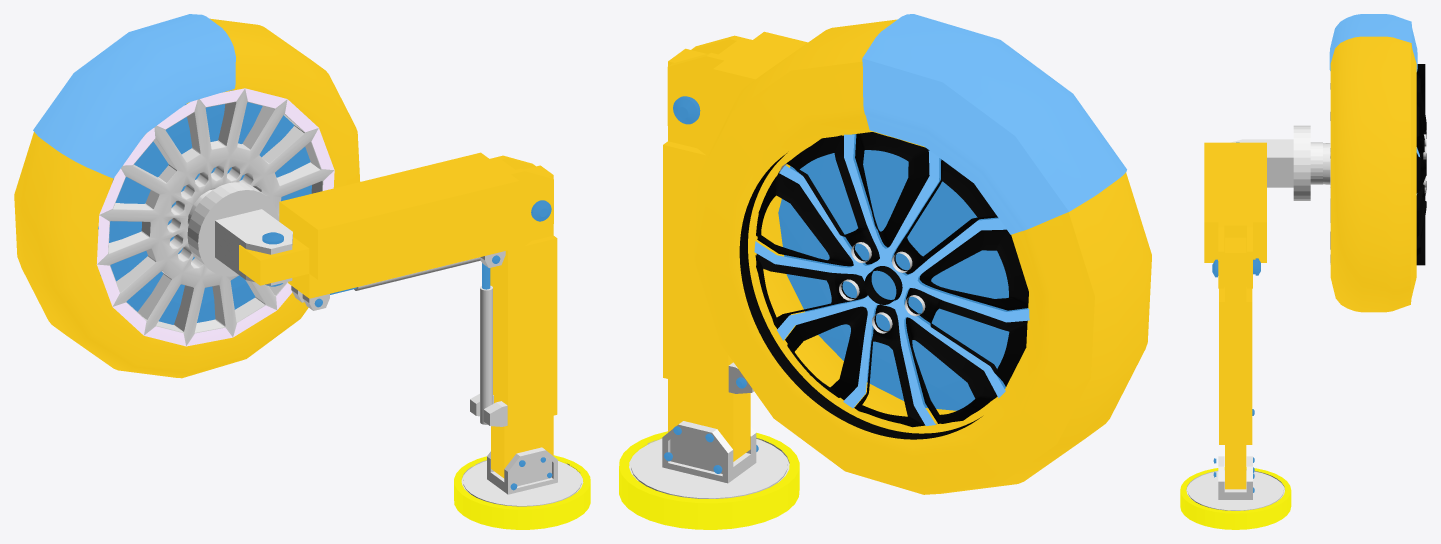
3 views of the same model, side by side, from view 1: azimuth 30°, elevation 25°; view 2: azimuth 150°, elevation 25°; view 3: azimuth 270°, elevation 25° (orthographic). The views are drawn at different scales.
Parts seen in each view (by area): view 1: ban_2.006, ban_2.013, Plane.019, Cube.003, ban_2.014, ban_2.012, Circle.033, Plane.023; view 2: ban_2.006, ban_2.014, Hyper_NURBS.004, Cube.003, ban_2.012, Hyper_NURBS.005, Plane.019, Circle.062; view 3: ban_2.006, Cube.003, Plane.019, Hyper_NURBS.004, ban_2.014, Circle.033, Plane.023, ban_2.013.
Boxes of the visible parts, box(x1,y1,x2,y2) form: ban_2.006: box(14, 18, 360, 378); ban_2.013: box(96, 88, 334, 346); Plane.019: box(239, 152, 553, 298); Cube.003: box(454, 165, 590, 529); ban_2.014: box(33, 14, 235, 178); ban_2.012: box(98, 90, 311, 324); Circle.033: box(187, 182, 278, 276); Plane.023: box(215, 209, 292, 285); ban_2.006: box(694, 19, 1151, 494); ban_2.014: box(862, 14, 1126, 234); Hyper_NURBS.004: box(739, 132, 1028, 439); Cube.003: box(619, 48, 799, 529); ban_2.012: box(778, 134, 1028, 410); Hyper_NURBS.005: box(754, 134, 1029, 425); Plane.019: box(667, 31, 807, 155); Circle.062: box(673, 96, 700, 124); ban_2.006: box(1330, 36, 1416, 312); Cube.003: box(1180, 237, 1291, 529); Plane.019: box(1204, 142, 1266, 288); Hyper_NURBS.004: box(1416, 64, 1426, 265); ban_2.014: box(1329, 14, 1417, 71); Circle.033: box(1293, 125, 1322, 200); Plane.023: box(1231, 139, 1293, 187); ban_2.013: box(1323, 71, 1330, 263).
Size of the model in its own units: 22.21 by 21.38 by 12.52.
